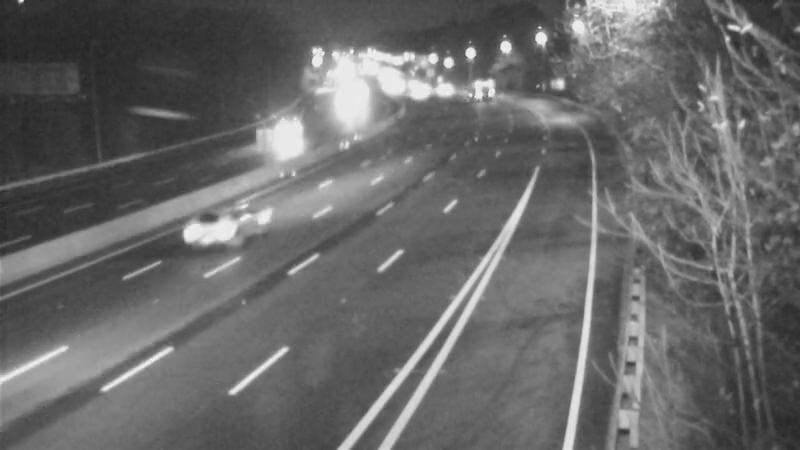vehicle: (174, 188, 254, 268), (257, 112, 307, 162)
